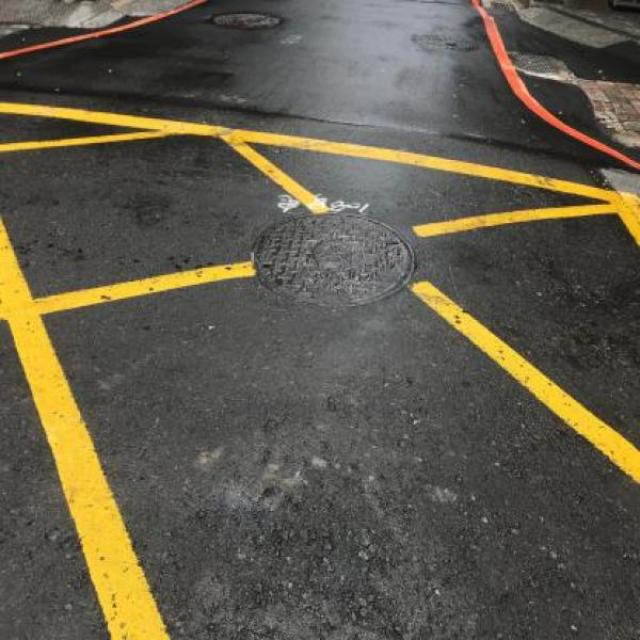Good: (246, 205, 418, 316)
